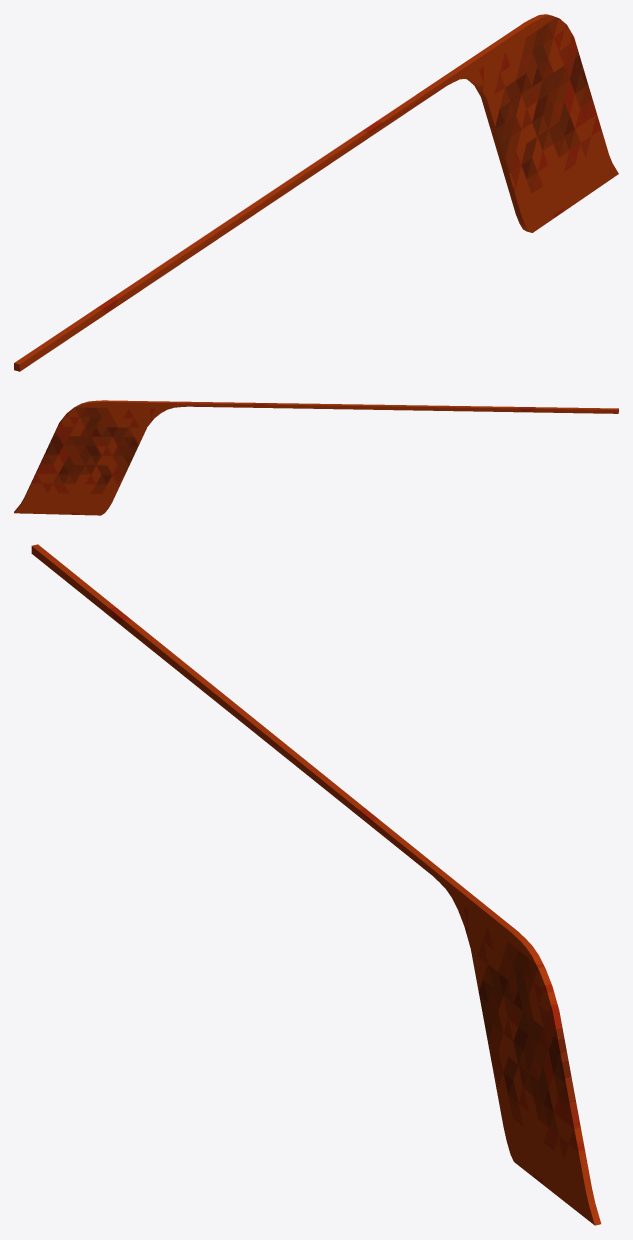
Rendered from CD_JZ_vr_dongfang_deco01.FBX.
3 views of the same model, one above another, from view 1: azimuth 30°, elevation 25°; view 2: azimuth 150°, elevation 25°; view 3: azimuth 270°, elevation 25° (orthographic). The views are drawn at different scales.
Parts seen in each view (by area): view 1: CD_JZ_vr_dongfang_deco01; view 2: CD_JZ_vr_dongfang_deco01; view 3: CD_JZ_vr_dongfang_deco01.
Part boxes in pixels (x1=…): CD_JZ_vr_dongfang_deco01: x1=14, y1=14, x2=618, y2=371; CD_JZ_vr_dongfang_deco01: x1=14, y1=400, x2=618, y2=515; CD_JZ_vr_dongfang_deco01: x1=31, y1=544, x2=601, y2=1225.
Size of the model in its own units: 2340 by 1240 by 549.
